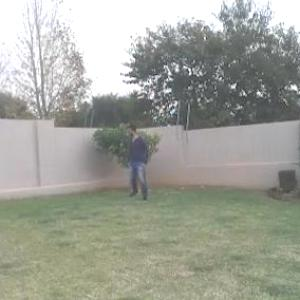follow: (126, 120, 151, 205)
